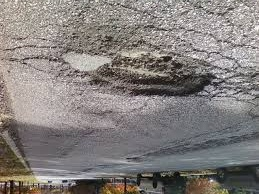pothole: (80, 44, 224, 93), (124, 155, 149, 162)
